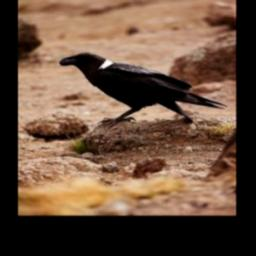Crow: (56, 50, 227, 132)
